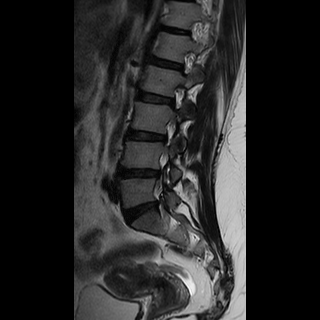RFS0: (162, 79, 188, 116), (175, 46, 197, 79)
